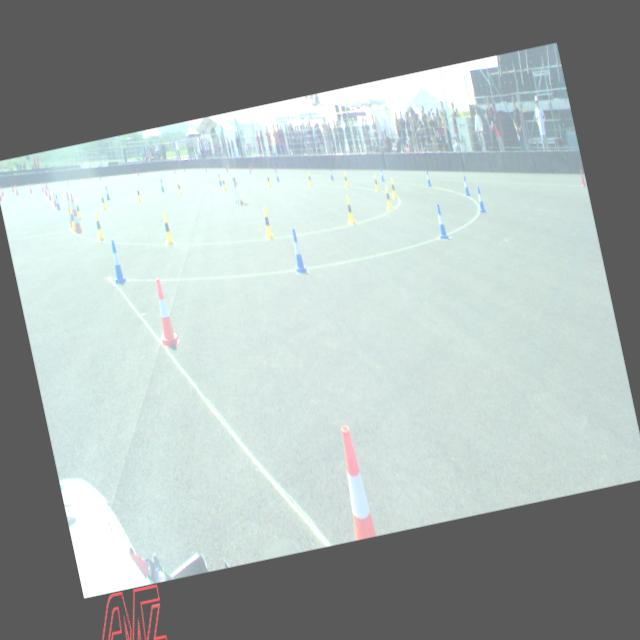blue_cone: (106, 238, 126, 286), (288, 227, 306, 274), (432, 203, 448, 240), (474, 185, 486, 213), (461, 174, 470, 197), (424, 168, 432, 186), (54, 193, 60, 210), (104, 184, 110, 200), (378, 166, 384, 181), (328, 167, 334, 180), (159, 178, 164, 192), (217, 173, 222, 186), (274, 170, 278, 182)
large_orange_cone: (66, 192, 84, 234), (62, 191, 76, 229)
orange_cone: (332, 423, 377, 540), (147, 276, 180, 348), (578, 170, 586, 188), (50, 190, 56, 207), (46, 187, 52, 200), (43, 184, 47, 195), (0, 186, 4, 197), (14, 184, 18, 195), (28, 182, 32, 193), (40, 182, 44, 192), (0, 188, 2, 201)
yellow_cone: (259, 206, 274, 240), (160, 212, 173, 246), (342, 194, 356, 225), (92, 211, 105, 242), (382, 185, 393, 211), (388, 178, 397, 200), (74, 197, 82, 220), (68, 206, 75, 228), (99, 192, 107, 210), (134, 186, 142, 202), (372, 174, 379, 192), (342, 170, 348, 187), (306, 170, 312, 186), (220, 174, 226, 190), (176, 180, 182, 194), (265, 172, 271, 186)
